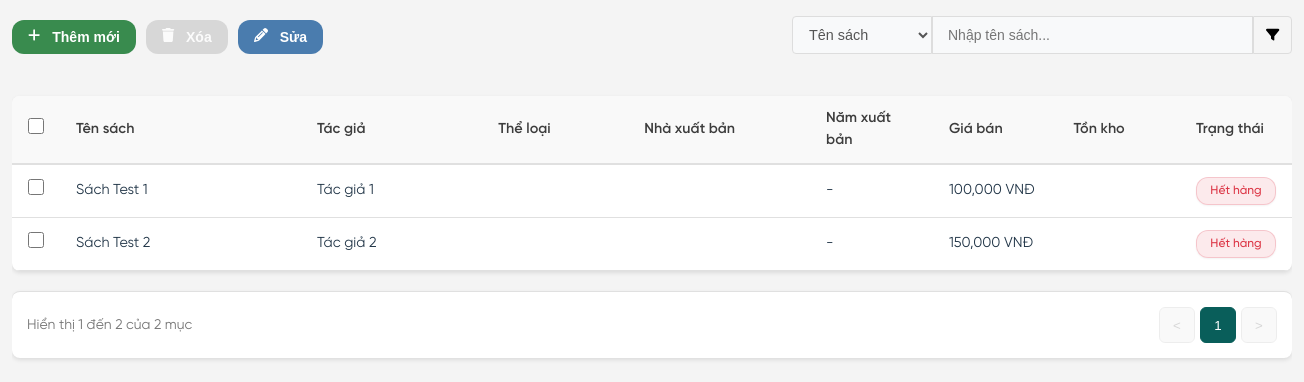
Test: BookTable › opens advanced search panel
Expected: the text "Sách Test 1" is shown, x1=60 y1=165 x2=301 y2=218
Click the button titled "Tìm kiếm nâng cao". click: x=1272, y=35
box: x1=1253 y1=16 x2=1292 y2=54
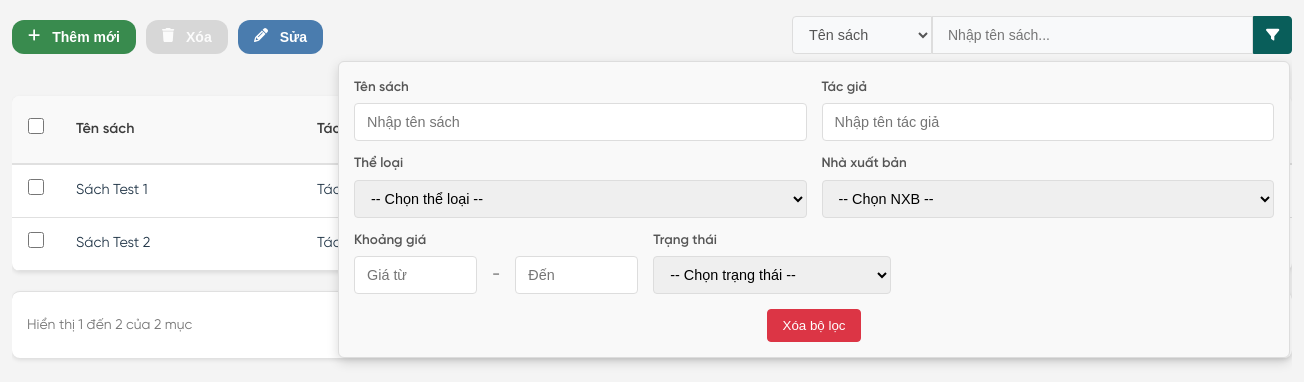
Expected: the field labelled "Tác giả" is shown, x1=822 y1=103 x2=1274 y2=141
Expected: the dropdown labelled "Thể loại" is shown, x1=354 y1=180 x2=806 y2=218
